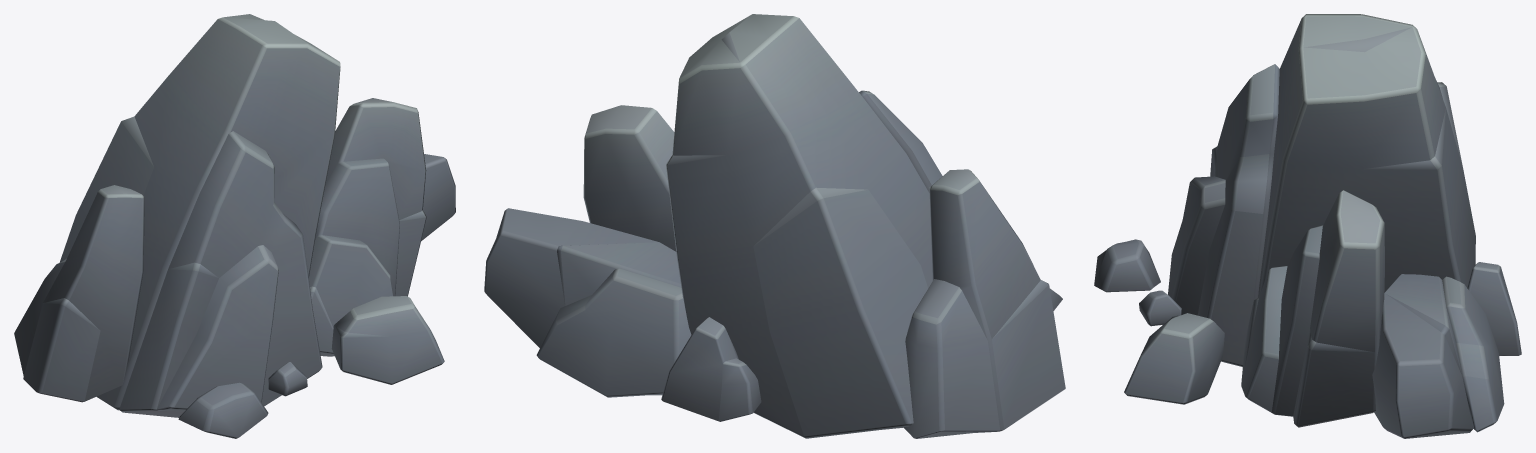
The model's file is rock_group_large.fbx.
3 views of the same model, side by side, from view 1: azimuth 30°, elevation 25°; view 2: azimuth 150°, elevation 25°; view 3: azimuth 270°, elevation 25° (orthographic). The views are drawn at different scales.
Parts seen in each view (by area): view 1: rock_arrangement_large; view 2: rock_arrangement_large; view 3: rock_arrangement_large.
Part boxes in pixels (x1,y1,x2,y2): rock_arrangement_large: (14,14,455,438); rock_arrangement_large: (484,14,1065,438); rock_arrangement_large: (1094,14,1521,438).
Bounding box in the file's own units: 1599 × 1077 × 1107.
